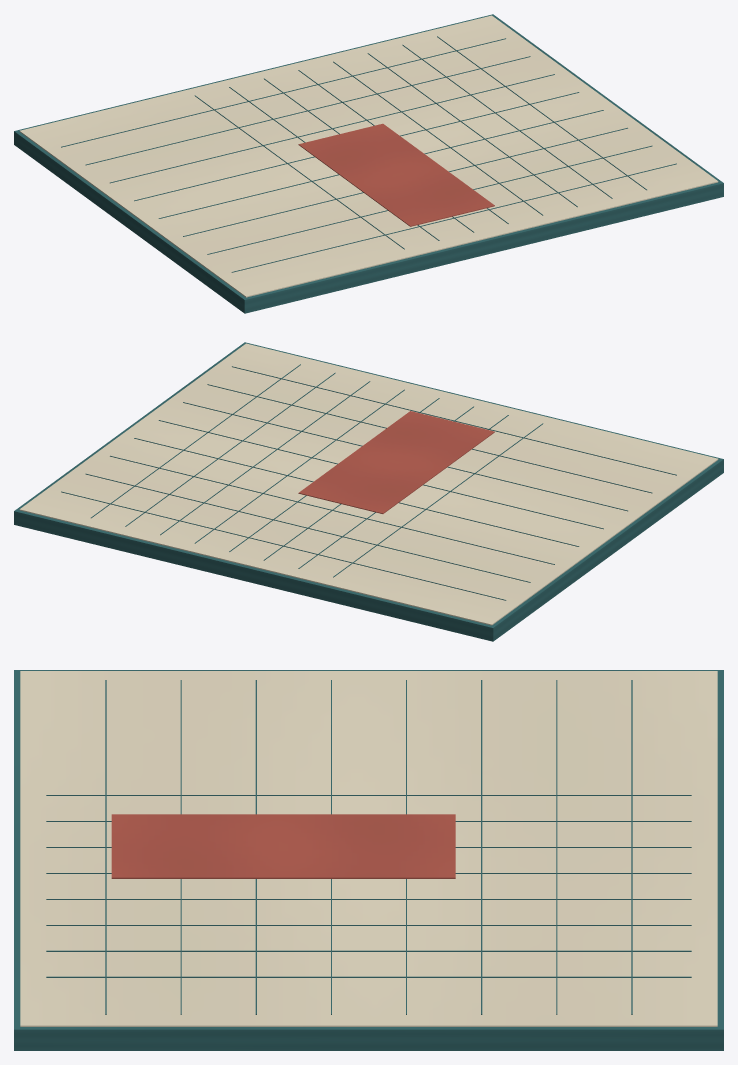
Rendered from atlas100-s034-a07.lod1.glb.
3 renders of one model, top to bottom at view 1: azimuth 30°, elevation 25°; view 2: azimuth 150°, elevation 25°; view 3: azimuth 270°, elevation 25°, orthographic. The views are drawn at different scales.
Parts seen in each view (by area): view 1: atlas100-s034-a07:part-001, atlas100-s034-a07:part-000, atlas100-s034-a07:part-021, atlas100-s034-a07:part-014, atlas100-s034-a07:part-020, atlas100-s034-a07:part-015, atlas100-s034-a07:part-013, atlas100-s034-a07:part-016, atlas100-s034-a07:part-018, atlas100-s034-a07:part-019, atlas100-s034-a07:part-017; view 2: atlas100-s034-a07:part-001, atlas100-s034-a07:part-000, atlas100-s034-a07:part-021, atlas100-s034-a07:part-013, atlas100-s034-a07:part-015, atlas100-s034-a07:part-014, atlas100-s034-a07:part-020, atlas100-s034-a07:part-017, atlas100-s034-a07:part-019, atlas100-s034-a07:part-018, atlas100-s034-a07:part-016; view 3: atlas100-s034-a07:part-001, atlas100-s034-a07:part-000, atlas100-s034-a07:part-021, atlas100-s034-a07:part-011, atlas100-s034-a07:part-012, atlas100-s034-a07:part-013, atlas100-s034-a07:part-014, atlas100-s034-a07:part-015, atlas100-s034-a07:part-020, atlas100-s034-a07:part-010, atlas100-s034-a07:part-009, atlas100-s034-a07:part-005.
Boxes of the visible parts, x1=… form: atlas100-s034-a07:part-001: x1=19, y1=15, x2=718, y2=297; atlas100-s034-a07:part-000: x1=14, y1=14, x2=723, y2=313; atlas100-s034-a07:part-021: x1=298, y1=123, x2=494, y2=226; atlas100-s034-a07:part-014: x1=85, y1=56, x2=530, y2=165; atlas100-s034-a07:part-020: x1=231, y1=163, x2=676, y2=272; atlas100-s034-a07:part-015: x1=110, y1=74, x2=554, y2=183; atlas100-s034-a07:part-013: x1=61, y1=38, x2=505, y2=147; atlas100-s034-a07:part-016: x1=134, y1=92, x2=579, y2=201; atlas100-s034-a07:part-018: x1=183, y1=127, x2=627, y2=236; atlas100-s034-a07:part-019: x1=207, y1=145, x2=652, y2=254; atlas100-s034-a07:part-017: x1=158, y1=110, x2=603, y2=218; atlas100-s034-a07:part-001: x1=19, y1=343, x2=718, y2=625; atlas100-s034-a07:part-000: x1=14, y1=342, x2=723, y2=641; atlas100-s034-a07:part-021: x1=298, y1=411, x2=494, y2=513; atlas100-s034-a07:part-013: x1=61, y1=491, x2=506, y2=600; atlas100-s034-a07:part-015: x1=110, y1=455, x2=554, y2=564; atlas100-s034-a07:part-014: x1=85, y1=473, x2=530, y2=582; atlas100-s034-a07:part-020: x1=232, y1=366, x2=676, y2=475; atlas100-s034-a07:part-017: x1=158, y1=420, x2=603, y2=529; atlas100-s034-a07:part-019: x1=207, y1=384, x2=652, y2=493; atlas100-s034-a07:part-018: x1=183, y1=402, x2=627, y2=511; atlas100-s034-a07:part-016: x1=134, y1=438, x2=579, y2=546; atlas100-s034-a07:part-001: x1=20, y1=671, x2=717, y2=1026; atlas100-s034-a07:part-000: x1=14, y1=670, x2=723, y2=1050; atlas100-s034-a07:part-021: x1=111, y1=814, x2=455, y2=878; atlas100-s034-a07:part-011: x1=46, y1=950, x2=691, y2=951; atlas100-s034-a07:part-012: x1=46, y1=976, x2=691, y2=977; atlas100-s034-a07:part-013: x1=631, y1=680, x2=632, y2=1014; atlas100-s034-a07:part-014: x1=556, y1=680, x2=557, y2=1014; atlas100-s034-a07:part-015: x1=481, y1=680, x2=482, y2=1014; atlas100-s034-a07:part-020: x1=105, y1=680, x2=106, y2=1014; atlas100-s034-a07:part-010: x1=46, y1=925, x2=691, y2=925; atlas100-s034-a07:part-009: x1=46, y1=899, x2=691, y2=899; atlas100-s034-a07:part-005: x1=46, y1=795, x2=691, y2=795.
Bounding box in the file's own units: 12.46 × 0.404 × 10.4.
Materials: 3 (3 with a texture image).
